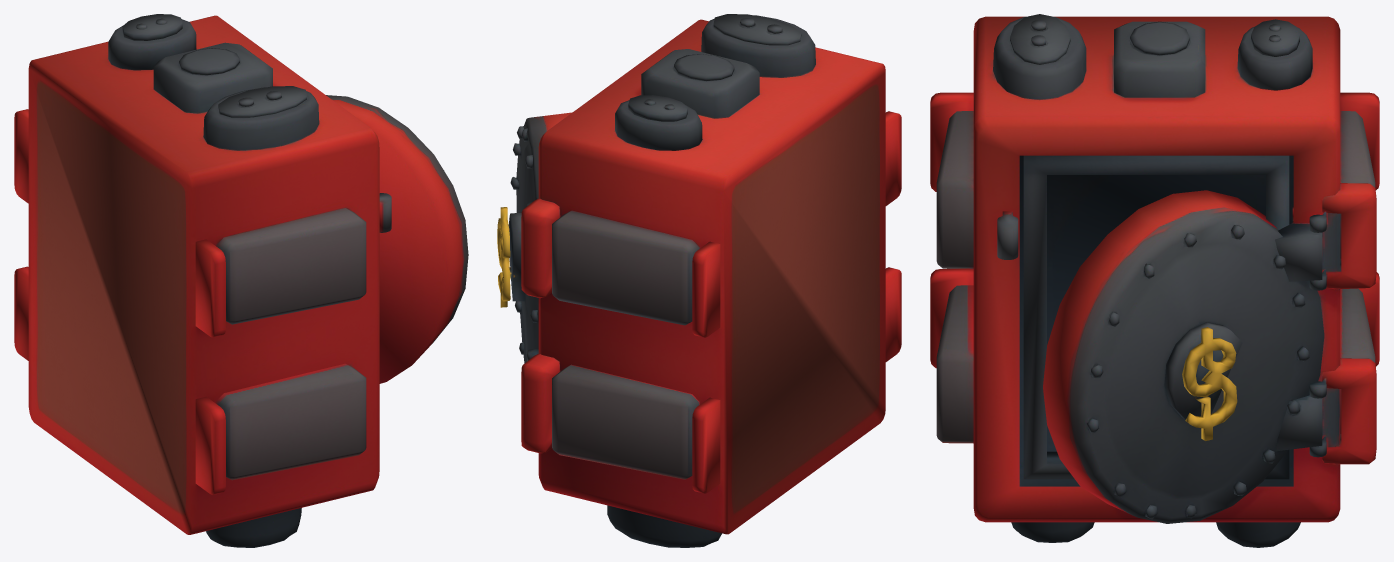
Rendered from heist_vault.glb.
3 renders of one model, left to right at view 1: azimuth 30°, elevation 25°; view 2: azimuth 150°, elevation 25°; view 3: azimuth 270°, elevation 25°, orthographic. The views are drawn at different scales.
Visible parts, largest first — view 1: tripo_node_b09de00b-33c3-4e73-aa80-84e3b5a02717; view 2: tripo_node_b09de00b-33c3-4e73-aa80-84e3b5a02717; view 3: tripo_node_b09de00b-33c3-4e73-aa80-84e3b5a02717.
Part boxes in pixels (x1,y1,x2,y2): tripo_node_b09de00b-33c3-4e73-aa80-84e3b5a02717: [14, 14, 468, 547]; tripo_node_b09de00b-33c3-4e73-aa80-84e3b5a02717: [497, 14, 901, 547]; tripo_node_b09de00b-33c3-4e73-aa80-84e3b5a02717: [930, 14, 1379, 547].
Size of the model in its own units: 0.7715 by 0.998 by 0.8262.
1 material, 1 textured.
